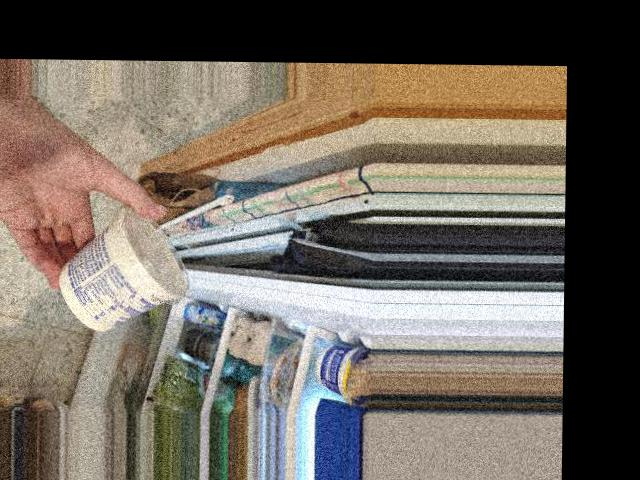cotage: (61, 197, 172, 318)
